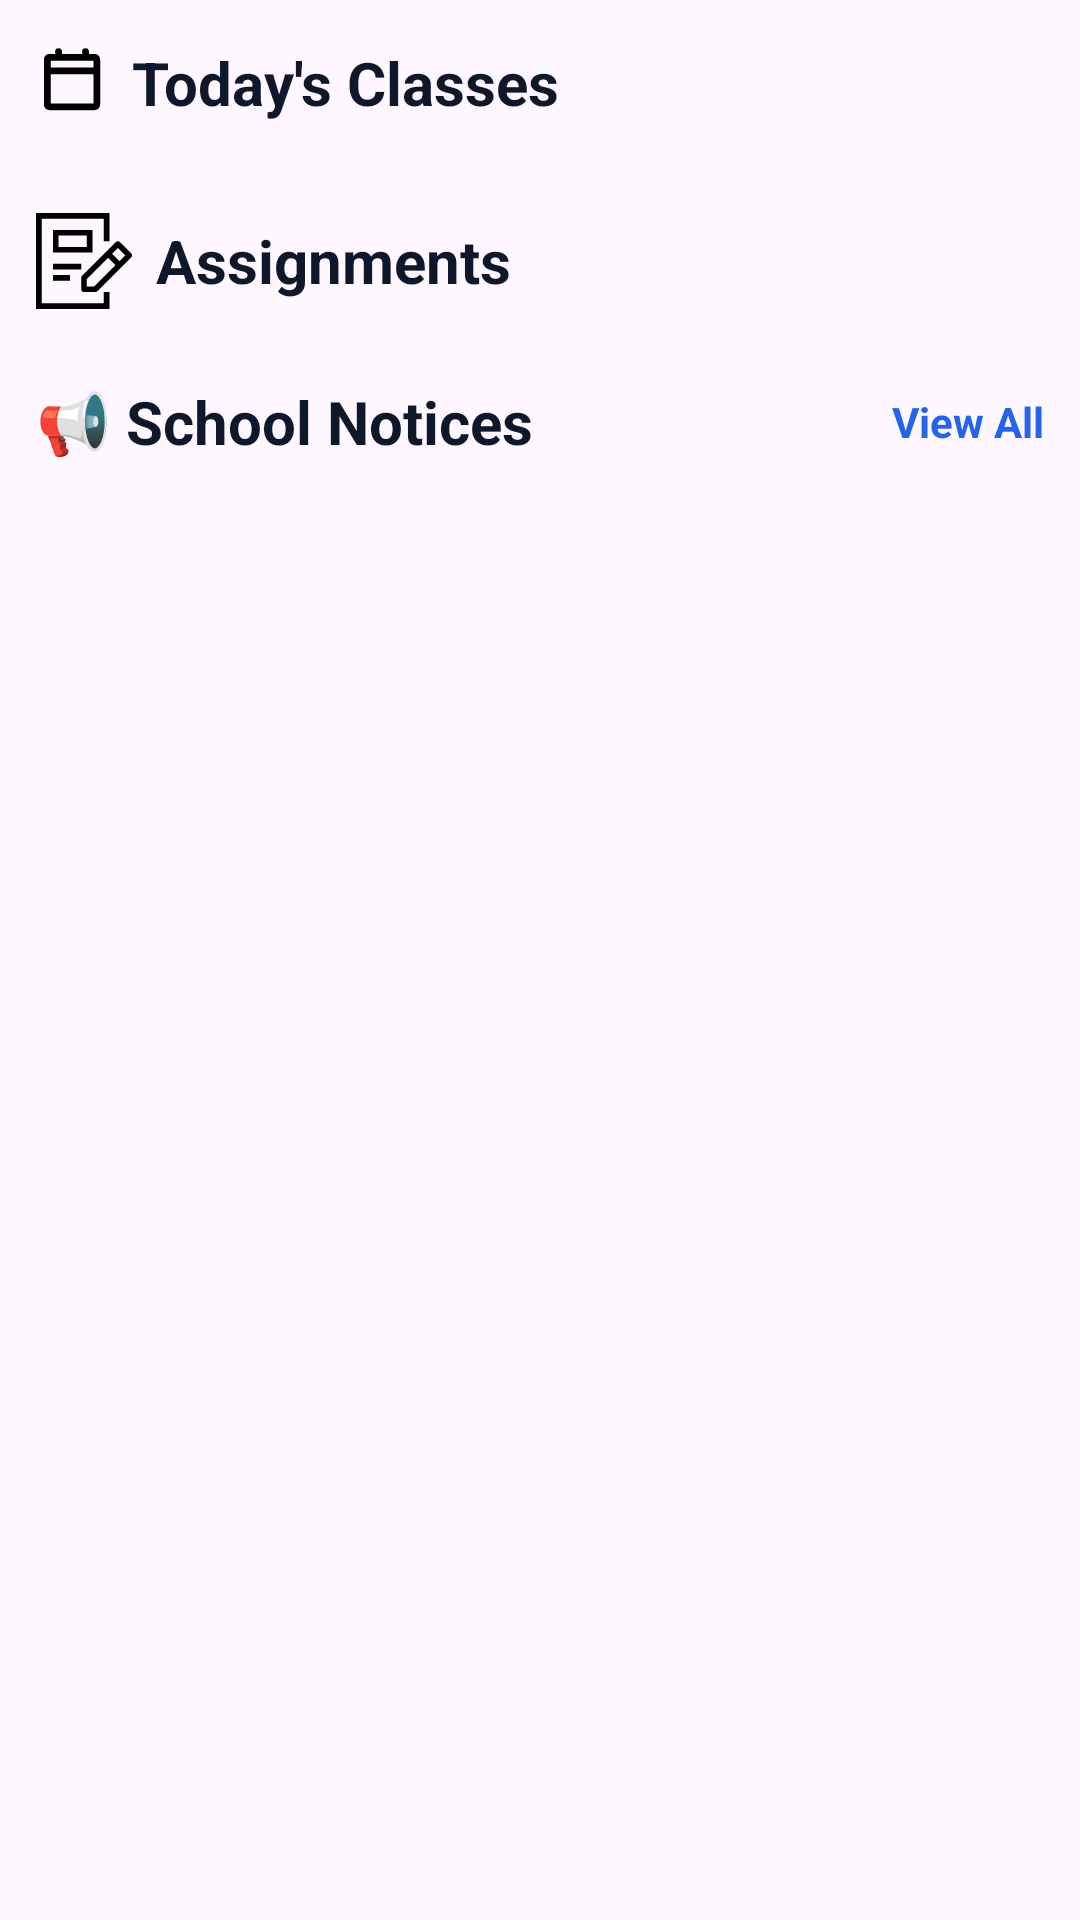

Icons on this 1080 × 1920 Android screen, each with its box as (x1, y1, x2, y2):
Assignment Icon: (36, 213, 132, 309)
Calendar Icon: (44, 48, 101, 111)
